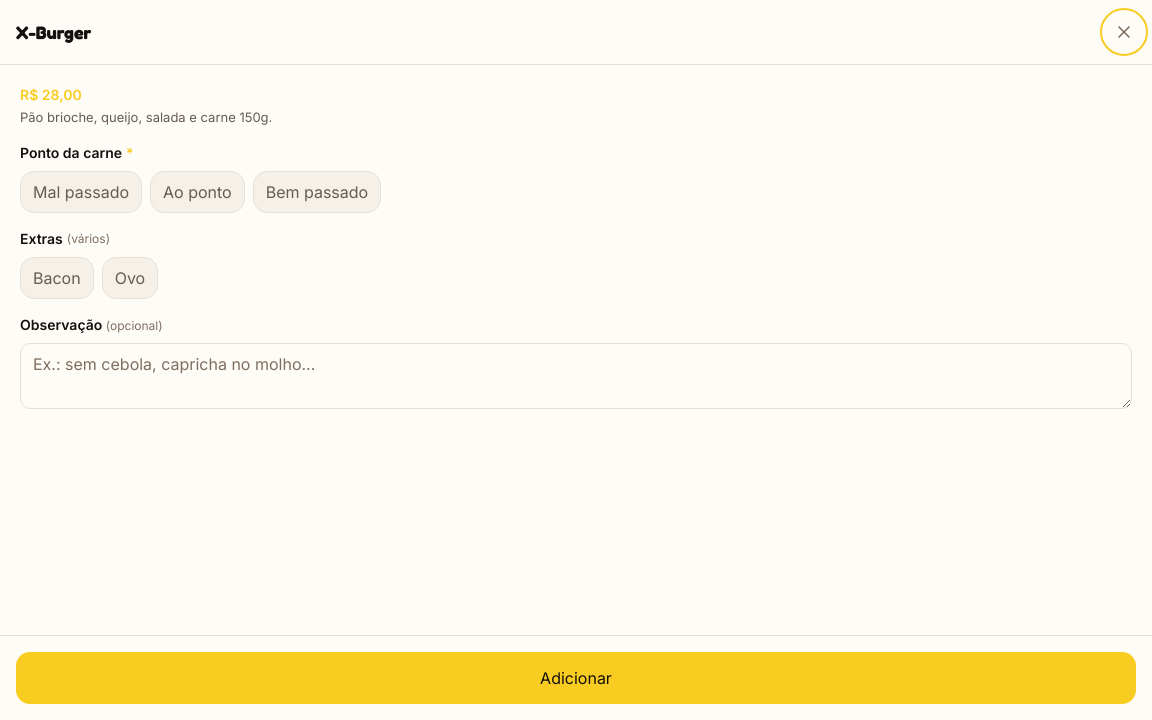
Test case: VariationModal (página pública / garçom) › não confirma com grupo obrigatório em branco e aponta o que falta
Click the button "Adicionar".
click(576, 678)  # box [16,652,1136,704]
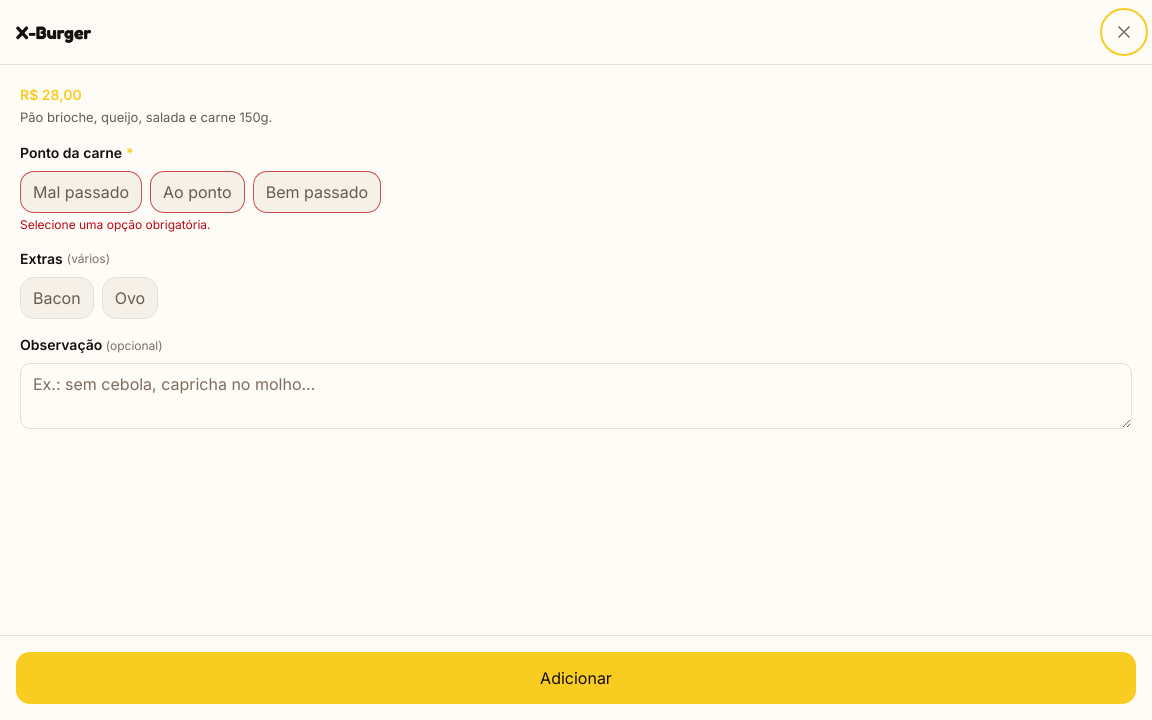
Expected: the text "Selecione uma opção obrigatória." is shown, [20,217,210,232]
